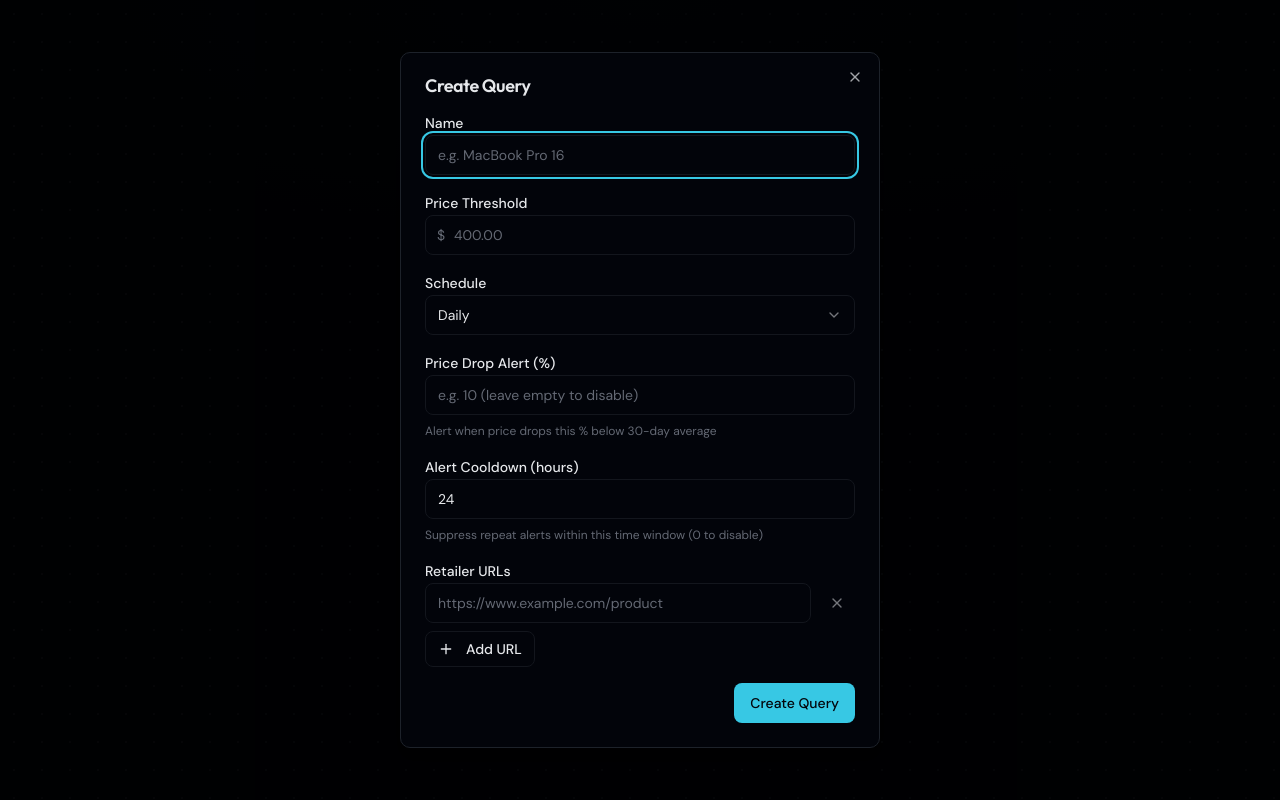
Test: QueryFormDialog › validates threshold format shows error for non-numeric input
The image size is (1280, 800).
Type "Test Query" into the field with placeholder "e.g. MacBook Pro 16" at x=640, y=155, box [425, 135, 855, 175]
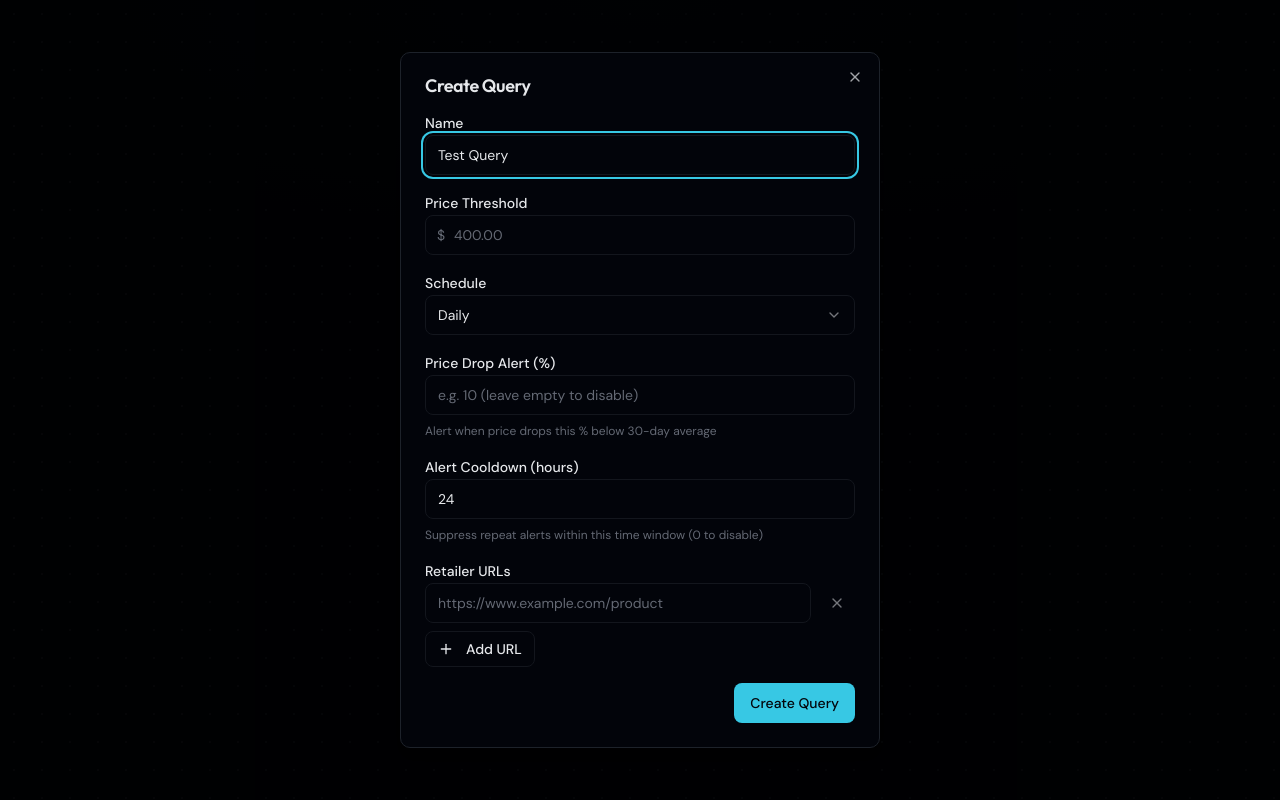
Type "abc" into the field with placeholder "400.00" at x=640, y=235, box [425, 215, 855, 255]
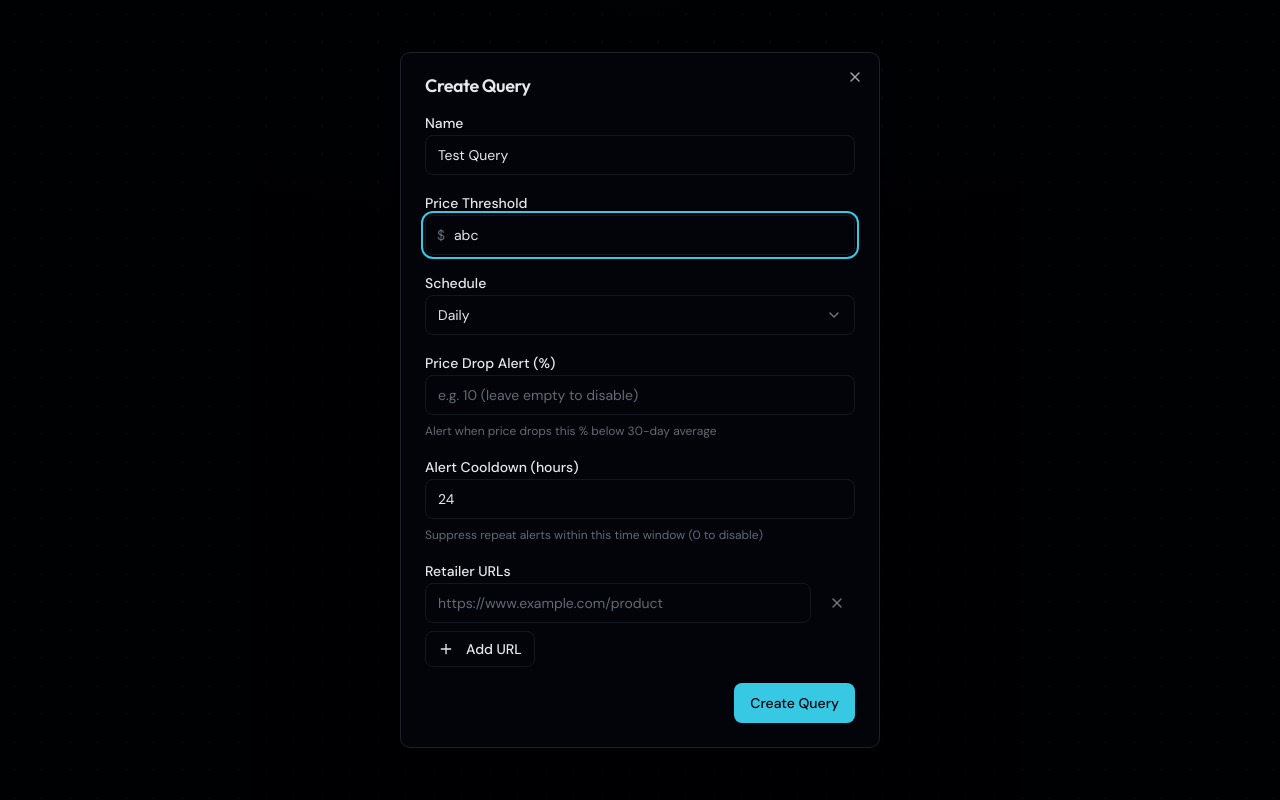
Type "https://example.com" into the field with placeholder "https://www.example.com/product" at x=618, y=603, box [425, 583, 811, 623]
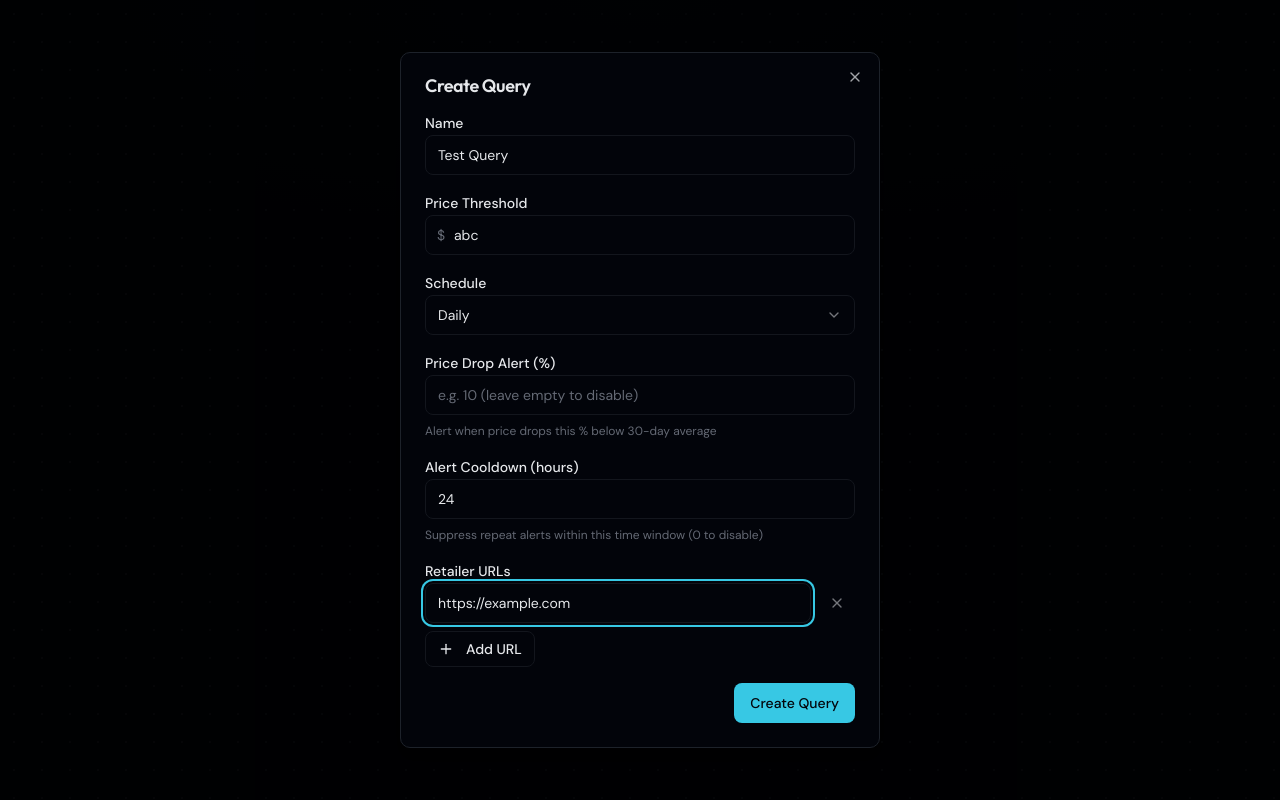
Click the button "Create Query" at x=795, y=703, box [734, 683, 855, 723]
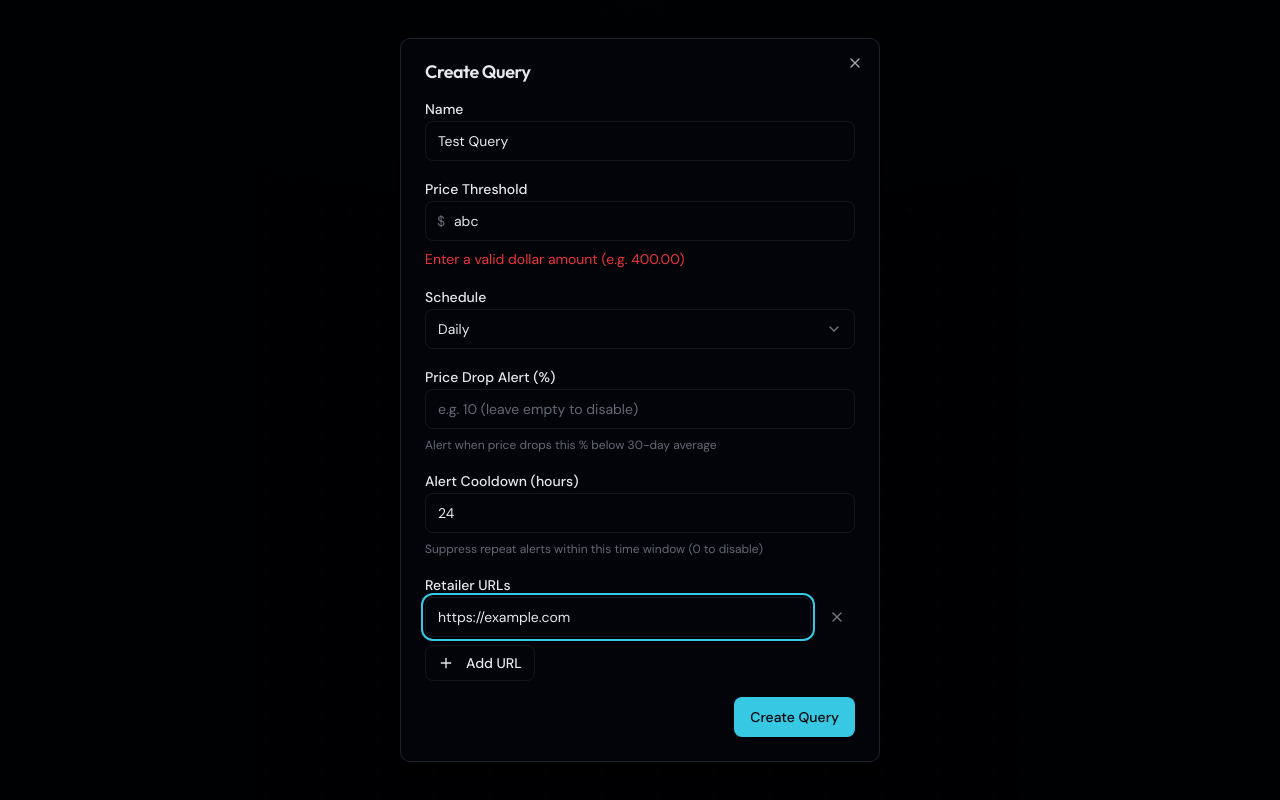
Expected: the text "Enter a valid dollar amount (e.g. 400.00)" is shown, [425, 250, 684, 268]
